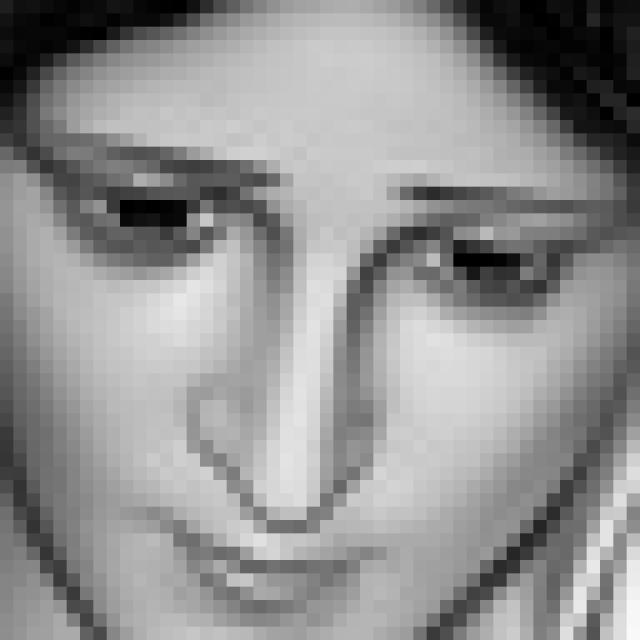sad: (0, 128, 629, 621)
